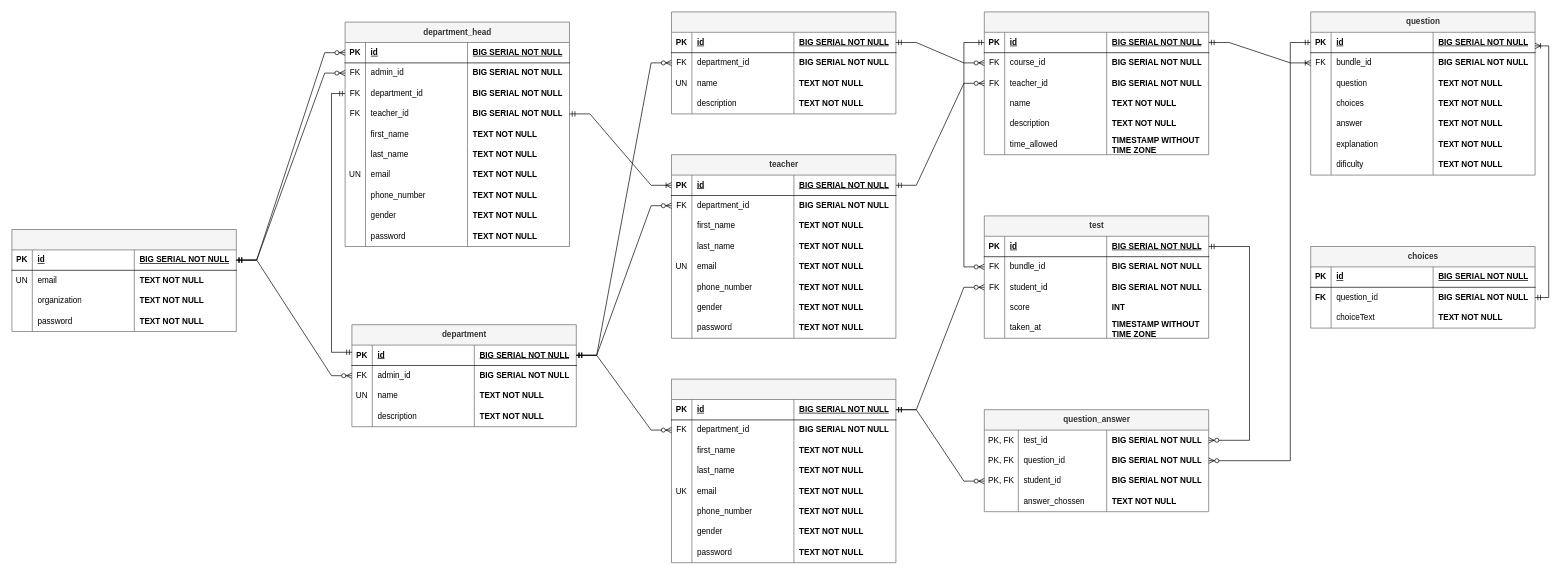
Some shapes in this 1567 by 575 pixel diagram are drawn without their labels. Each missing label, with the box of its shape:
admin: (11, 229, 236, 332)
bundle: (984, 11, 1209, 155)
course: (671, 11, 896, 114)
student: (671, 378, 896, 563)
